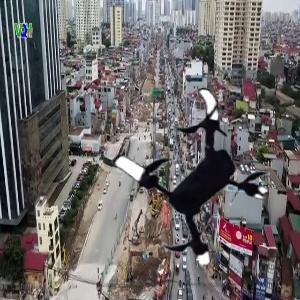drone: (98, 84, 280, 266)
